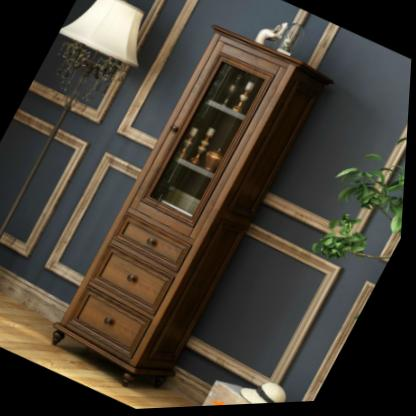Cupboard: (55, 29, 331, 387)
